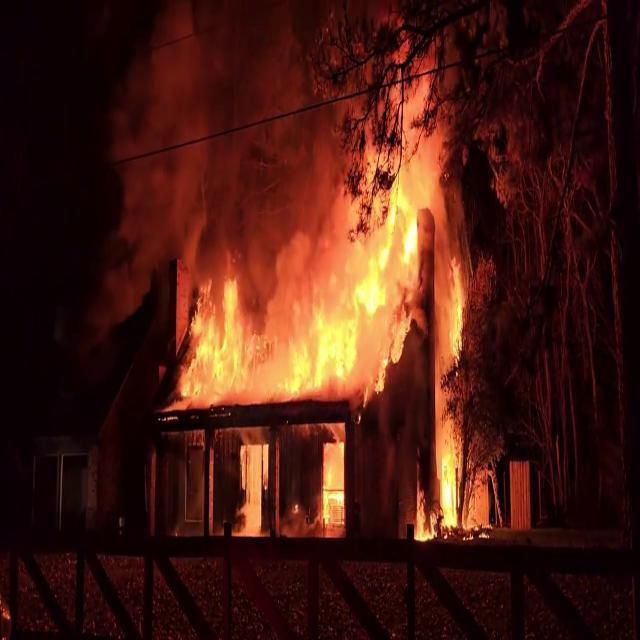Fire: (167, 152, 474, 416)
Smoke: (71, 0, 327, 246)
